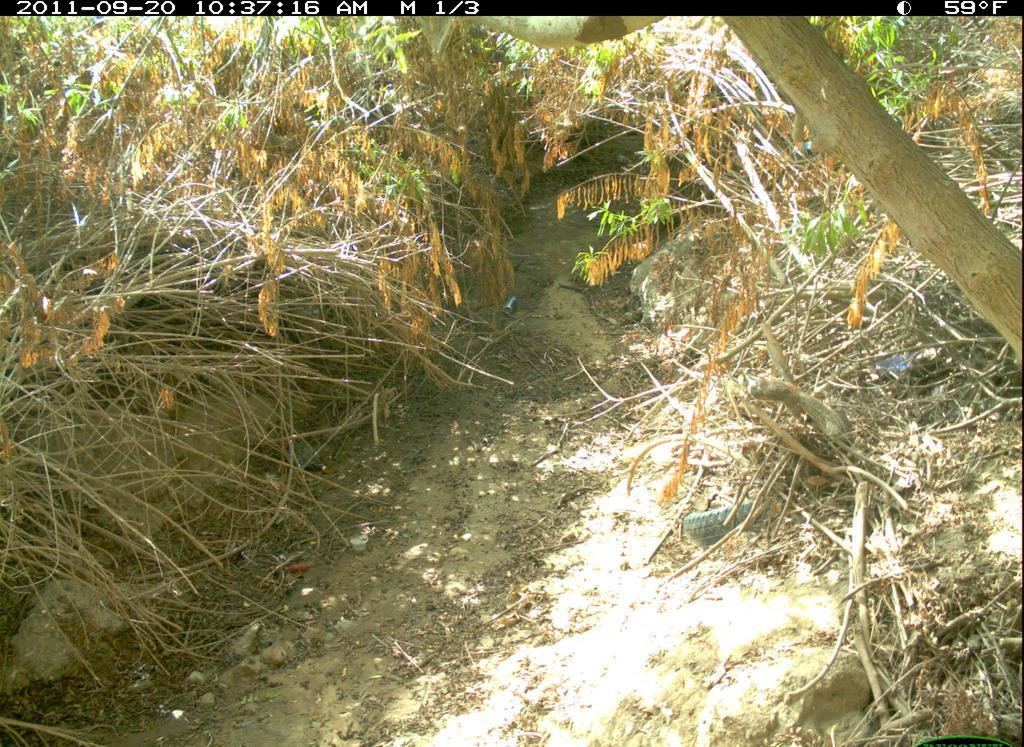squirrel: (730, 345, 845, 447)
